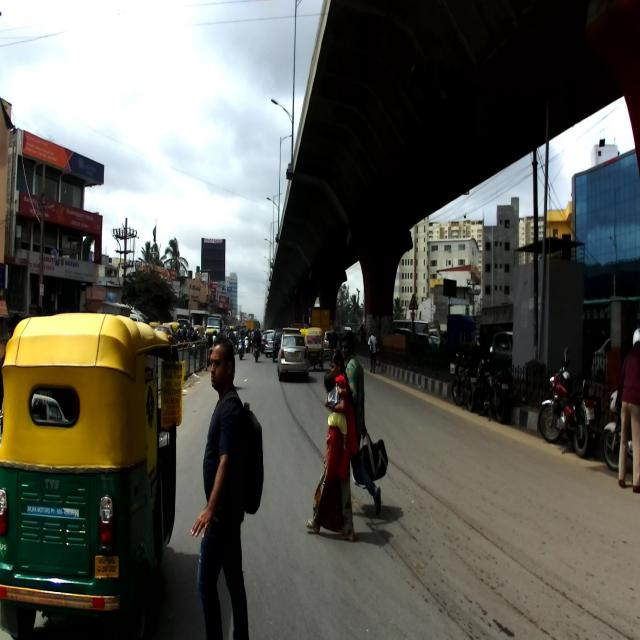autorickshaw: (0, 310, 183, 638)
motorcycle: (538, 346, 596, 458)
